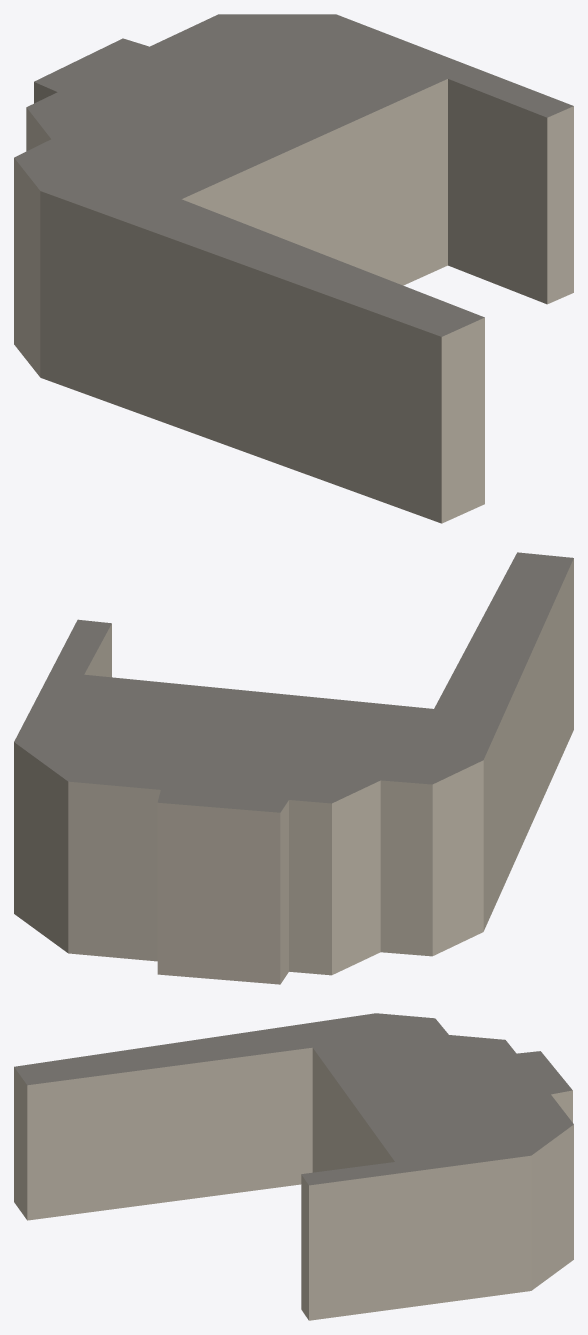
3 views of the same model, one above another, from view 1: azimuth 30°, elevation 25°; view 2: azimuth 150°, elevation 25°; view 3: azimuth 270°, elevation 25° (orthographic). The views are drawn at different scales.
Parts seen in each view (by area): view 1: HP-w1395861828; view 2: HP-w1395861828; view 3: HP-w1395861828.
Part boxes in pixels (x1,y1,x2,y2): HP-w1395861828: [14, 14, 573, 523]; HP-w1395861828: [14, 552, 573, 984]; HP-w1395861828: [14, 1013, 573, 1320].
Size of the model in its own units: 49.16 by 18 by 67.52.
